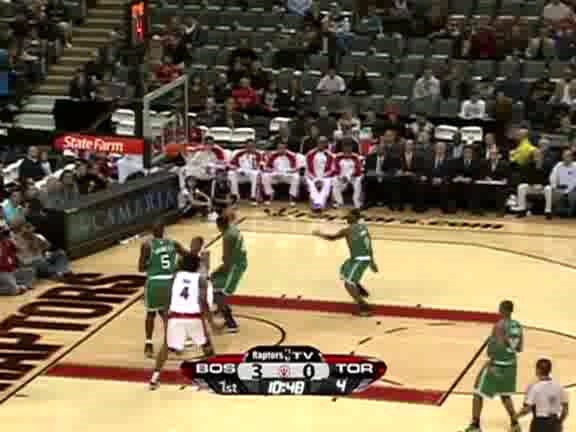person: (344, 215, 378, 296), (343, 215, 377, 296), (345, 215, 379, 296), (344, 214, 378, 295), (344, 216, 378, 297)
target_negative: (32, 183, 305, 295), (298, 50, 476, 215), (401, 94, 543, 245), (353, 308, 483, 391), (470, 313, 496, 412)
